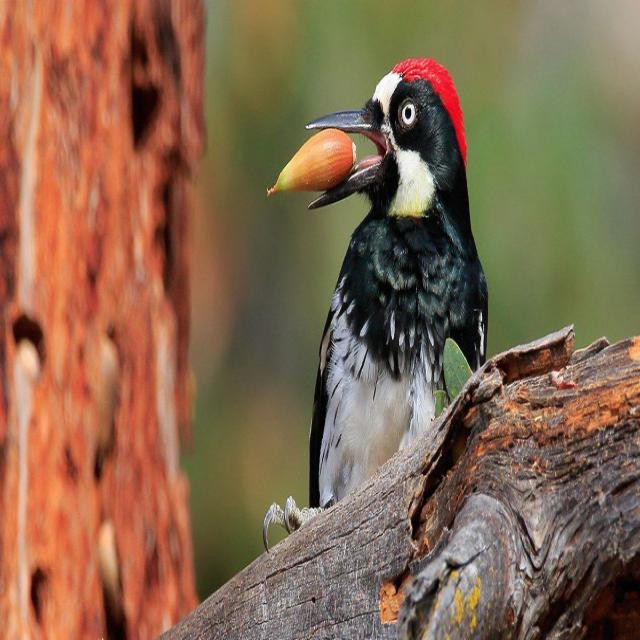woodpecker: (306, 58, 487, 507)
